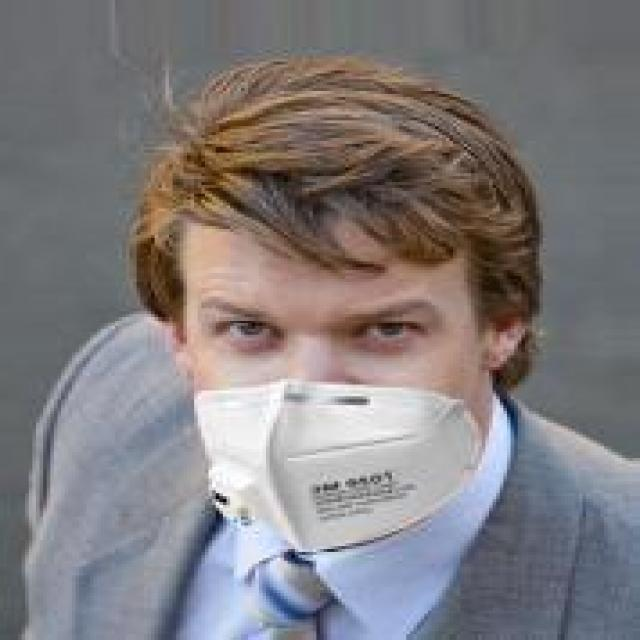mask: (39, 21, 564, 543)
